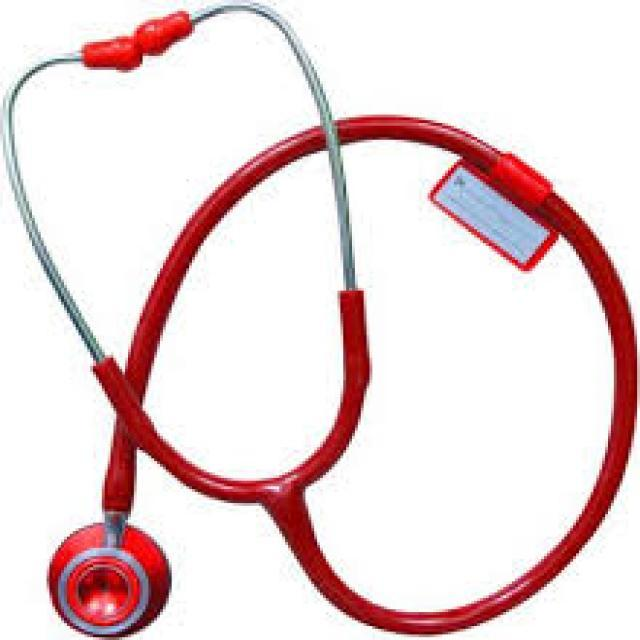stethoscope: (27, 13, 583, 624)
